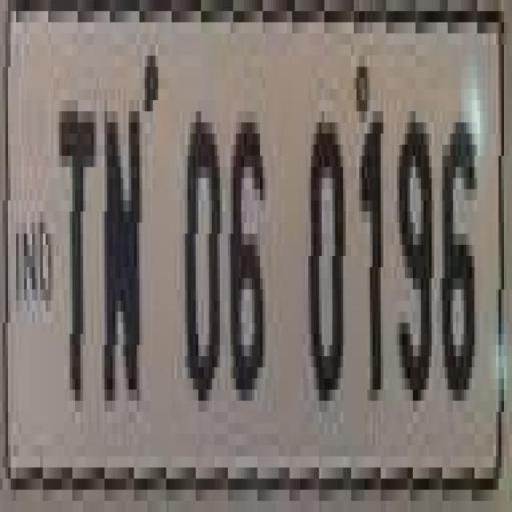number plate: (0, 0, 502, 501)
